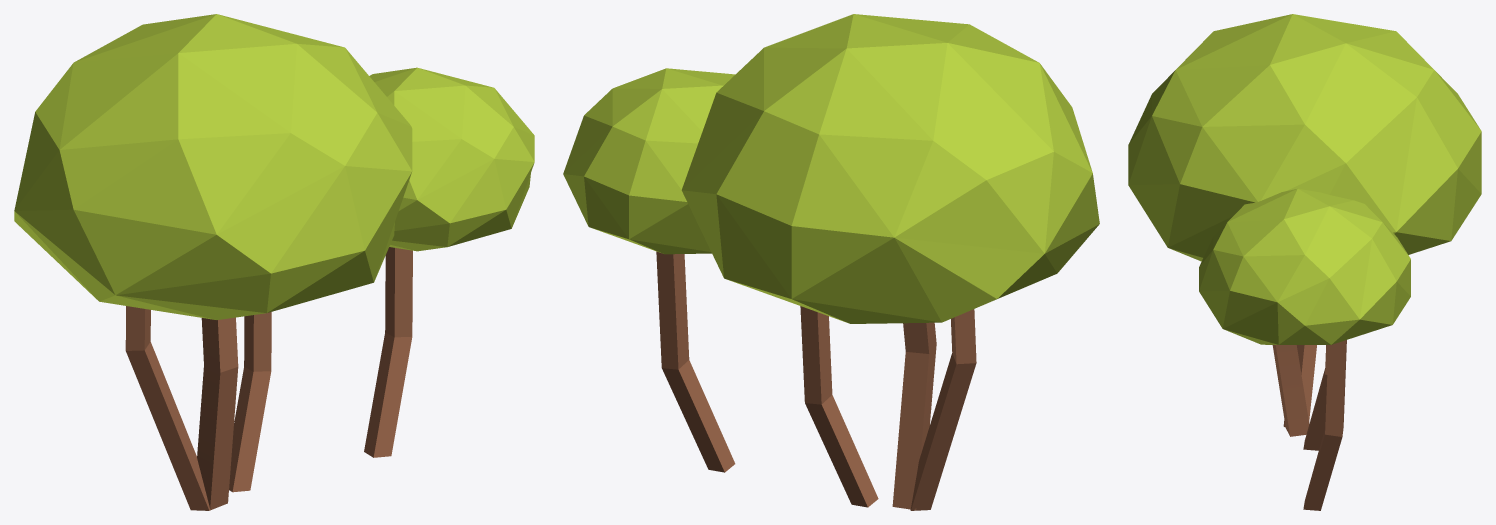
Rendered from bush_2.fbx.
The picture shows the model from 3 angles, left to right: view 1: azimuth 30°, elevation 25°; view 2: azimuth 150°, elevation 25°; view 3: azimuth 270°, elevation 25°; orthographic projection. The views are drawn at different scales.
Parts seen in each view (by area): view 1: bush_2; view 2: bush_2; view 3: bush_2.
Boxes of the visible parts, box(x1,y1,x2,y2) form: bush_2: box(14, 14, 534, 510); bush_2: box(563, 14, 1099, 510); bush_2: box(1128, 14, 1481, 510).
Size of the model in its own units: 166 by 151 by 120.
